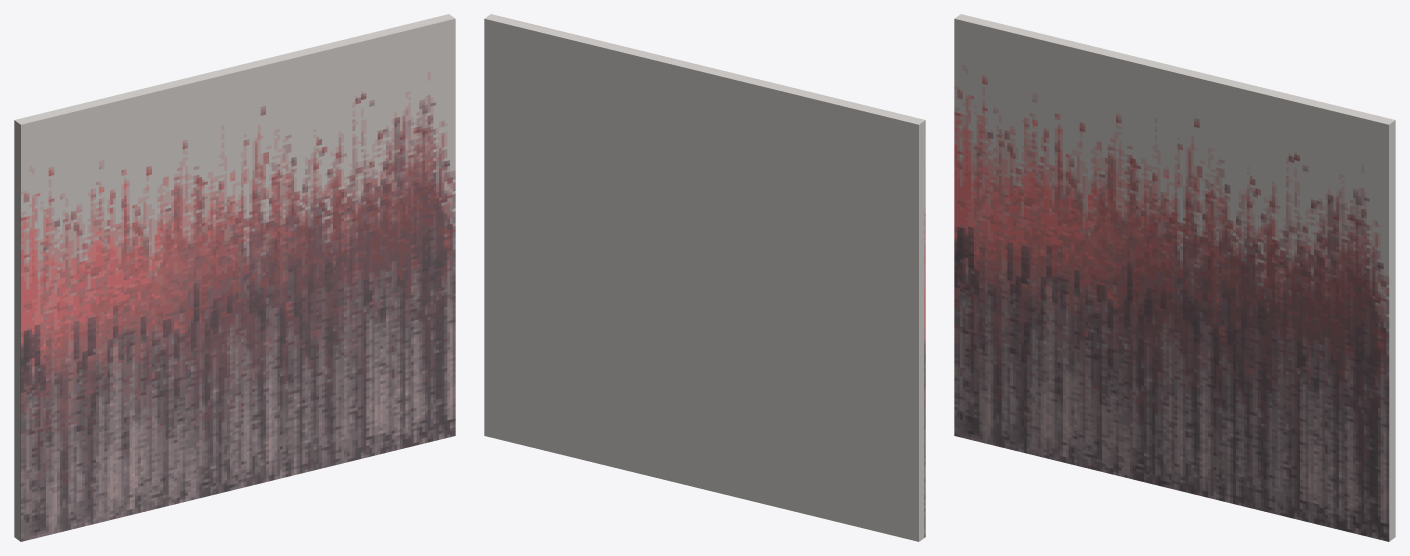
The model's file is wall_art_src.glb.
3 views of the same model, side by side, from view 1: azimuth 30°, elevation 25°; view 2: azimuth 150°, elevation 25°; view 3: azimuth 330°, elevation 25° (orthographic).
Visible parts, largest first — view 1: root; view 2: root; view 3: root.
Part boxes in pixels (box(x1,y1,x2,y2)): root: box(14, 14, 455, 541); root: box(484, 14, 925, 541); root: box(954, 14, 1395, 541).
Bounding box in the file's own units: 1.58 × 1.45 × 0.0408.
